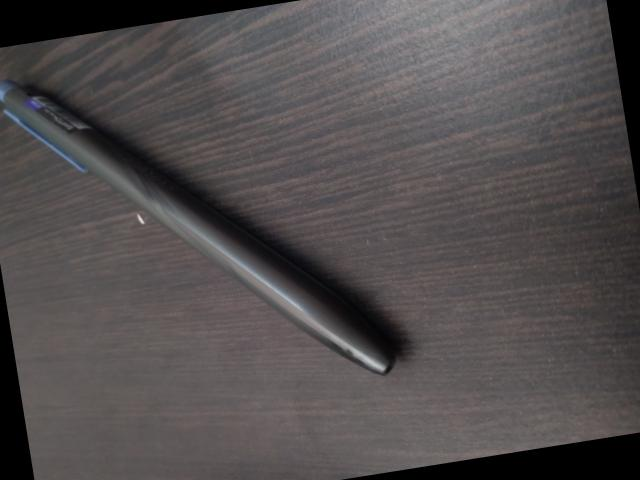PEN: (47, 0, 486, 430)
